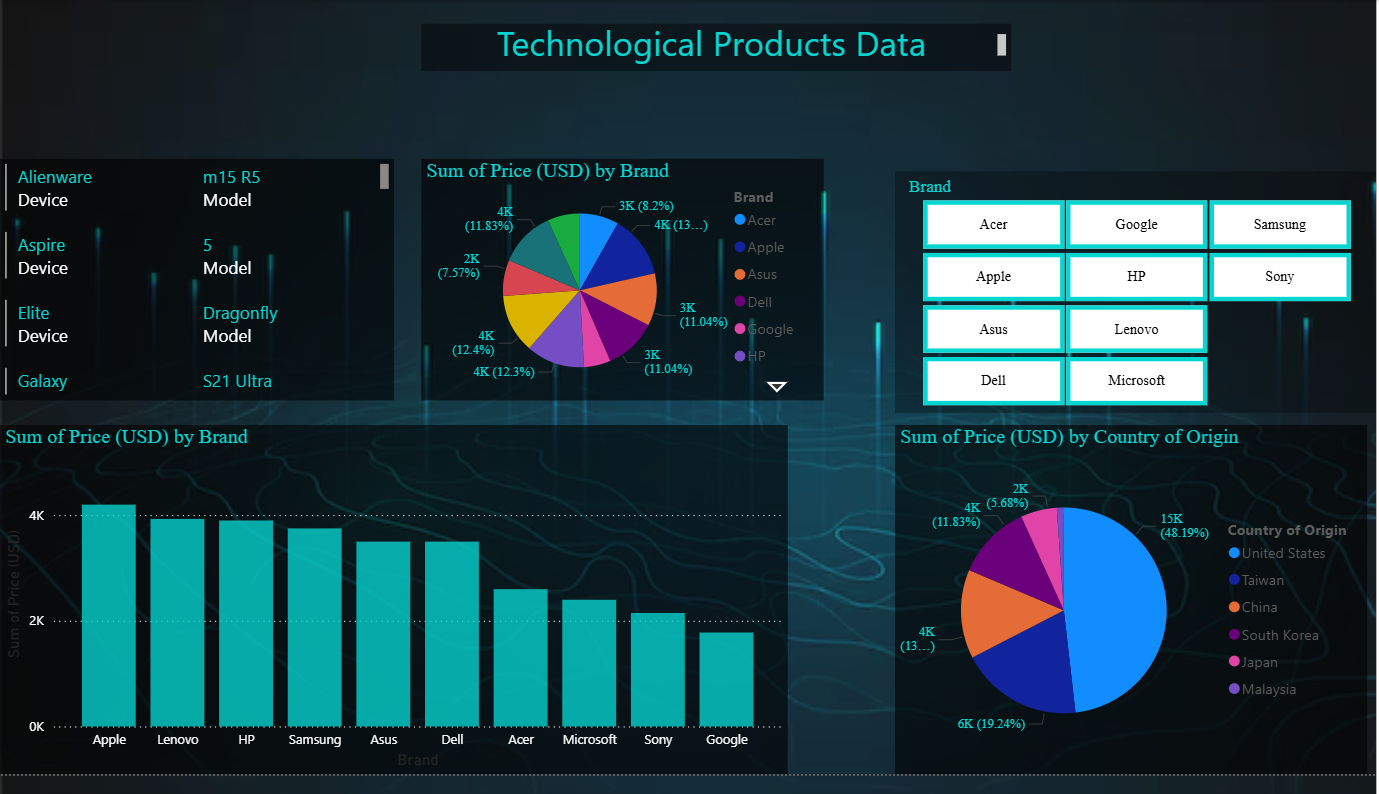

Layout of this report page (visuals, bound fields, positions):
{"tool":"powerbi","page":{"name":"Page 1","canvas":[1280,720],"ordinal":0},"visuals":[{"type":"slicer","fields":{"Values":["Technological Products Data (Tech Products).Brand"]},"box":[832.6,159.3,447.7,224.4],"z":0},{"type":"multiRowCard","fields":{"Values":["Technological Products Data (Tech Products).Device","Technological Products Data (Tech Products).Model"]},"box":[0,147.7,366.3,224.4],"z":1000},{"type":"pieChart","fields":{"Y":["Sum(Technological Products Data (Tech Products).Price (USD))"],"Category":["Technological Products Data (Tech Products).Country of Origin"]},"box":[832.6,395.3,439.5,324.4],"z":2000},{"type":"columnChart","fields":{"Category":["Technological Products Data (Tech Products).Brand"],"Y":["Sum(Technological Products Data (Tech Products).Price (USD))"]},"box":[0,395.3,732.6,324.4],"z":3000},{"type":"pieChart","fields":{"Y":["Sum(Technological Products Data (Tech Products).Price (USD))"],"Series":["Technological Products Data (Tech Products).Brand"]},"box":[391.9,147.7,374.4,224.4],"z":4000},{"type":"textbox","box":[425.6,19.8,423.3,52.3],"z":5000}]}

Visuals, with their boxes in screenshot pixels (x1, y1, x2, y2), scaled from the page's 1280x720 canvas onto the 1379x794 screenshot:
slicer - Technological Products Data (Tech Products).Brand: {"left": 897, "top": 176, "right": 1378, "bottom": 423}
multiRowCard - Technological Products Data (Tech Products).Device x Technological Products Data (Tech Products).Model: {"left": 0, "top": 163, "right": 395, "bottom": 410}
pieChart - Sum(Technological Products Data (Tech Products).Price (USD)) x Technological Products Data (Tech Products).Country of Origin: {"left": 897, "top": 436, "right": 1370, "bottom": 793}
columnChart - Technological Products Data (Tech Products).Brand x Sum(Technological Products Data (Tech Products).Price (USD)): {"left": 0, "top": 436, "right": 789, "bottom": 793}
pieChart - Sum(Technological Products Data (Tech Products).Price (USD)) x Technological Products Data (Tech Products).Brand: {"left": 422, "top": 163, "right": 826, "bottom": 410}
textbox: {"left": 459, "top": 22, "right": 915, "bottom": 80}
